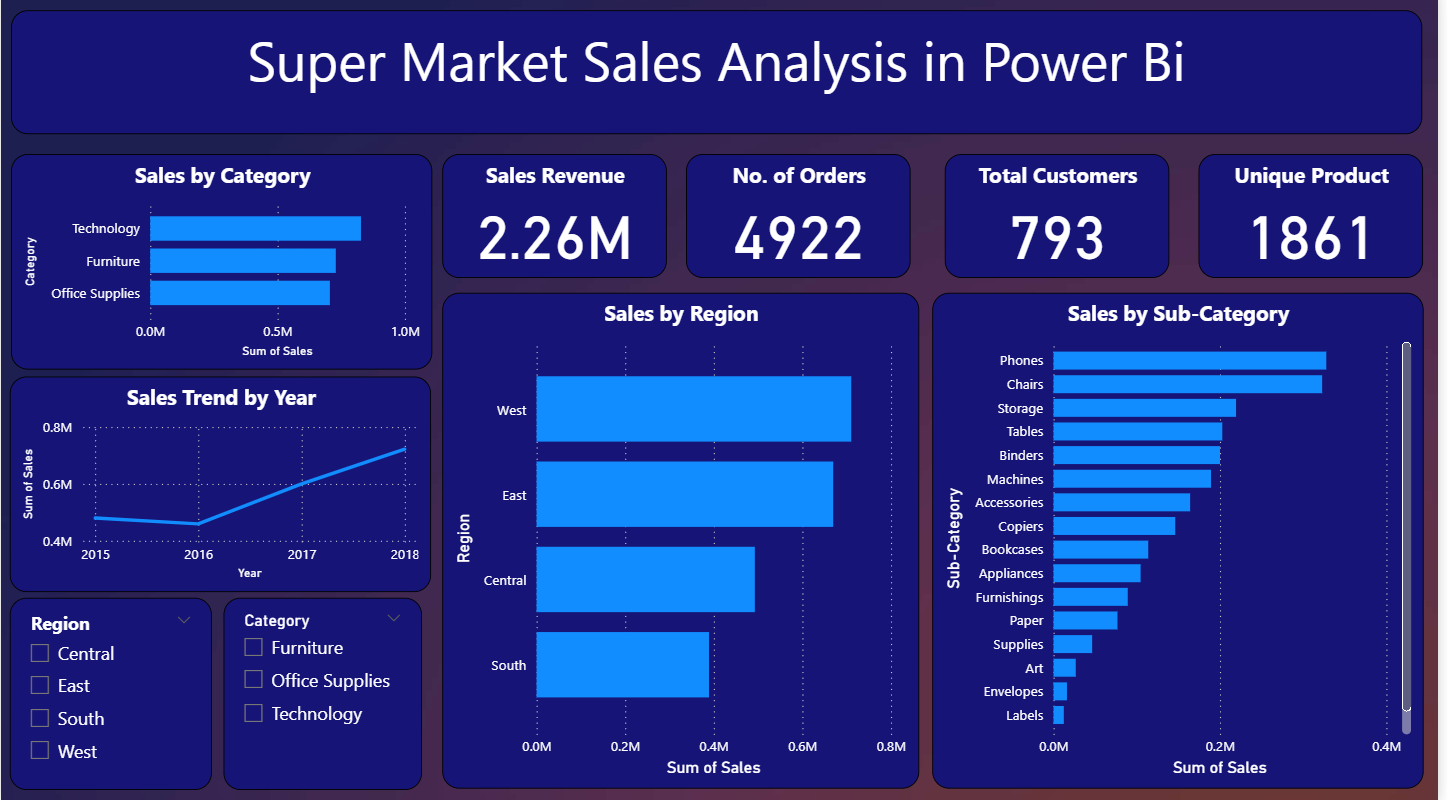

What the dashboard file says about the page in this screenshot:
{"tool":"powerbi","page":{"name":"Page 1","canvas":[1280,720],"ordinal":0},"visuals":[{"type":"card","title":"Sales Revenue","fields":{"Values":["Sum(train.Sales)"]},"box":[393,143,200,110.5],"z":0},{"type":"barChart","title":"Sales by Category","fields":{"Category":["train.Category"],"Y":["Sum(train.Sales)"]},"box":[9.3,143,375.6,191.9],"z":1000},{"type":"lineChart","title":"Sales Trend by Year","fields":{"Category":["train.Order Date.Variation.Date Hierarchy.Year","train.Order Date.Variation.Date Hierarchy.Quarter","train.Order Date.Variation.Date Hierarchy.Month","train.Order Date.Variation.Date Hierarchy.Day"],"Y":["Sum(train.Sales)"]},"box":[8.1,340.7,375.6,191.9],"z":2000},{"type":"slicer","fields":{"Values":["train.Region"]},"box":[8.1,537.2,180.2,170.9],"z":3000},{"type":"clusteredBarChart","title":"Sales by Region","fields":{"Category":["train.Region"],"Y":["Sum(train.Sales)"]},"box":[393,266.3,424.4,441.9],"z":4000},{"type":"textbox","box":[9.3,14,1257,110.5],"z":5000},{"type":"clusteredBarChart","title":"Sales by Sub-Category","fields":{"Category":["train.Sub-Category"],"Y":["Sum(train.Sales)"]},"box":[829.1,266.3,437.2,441.9],"z":6000},{"type":"card","title":"No. of Orders","fields":{"Values":["Count(train.Order ID)"]},"box":[610.5,143,200,110.5],"z":7000},{"type":"card","title":"Total Customers","fields":{"Values":["Count(train.Customer ID)"]},"box":[840.7,143,200,110.5],"z":8000},{"type":"card","title":"Unique Product","fields":{"Values":["Count(train.Product ID)"]},"box":[1066.3,143,200,110.5],"z":9000},{"type":"slicer","fields":{"Values":["train.Category"]},"box":[197.7,537.2,176.7,170.9],"z":9001}]}

Visuals, with their boxes in screenshot pixels (x1, y1, x2, y2), scaled from the page's 1280x720 canvas onto the 1447x800 screenshot:
"Sales Revenue" card: locate(444, 159, 670, 282)
"Sales by Category" barChart: locate(11, 159, 435, 372)
"Sales Trend by Year" lineChart: locate(9, 379, 434, 592)
slicer - train.Region: locate(9, 597, 213, 787)
"Sales by Region" clusteredBarChart: locate(444, 296, 924, 787)
textbox: locate(11, 16, 1432, 138)
"Sales by Sub-Category" clusteredBarChart: locate(937, 296, 1432, 787)
"No. of Orders" card: locate(690, 159, 916, 282)
"Total Customers" card: locate(950, 159, 1176, 282)
"Unique Product" card: locate(1205, 159, 1432, 282)
slicer - train.Category: locate(223, 597, 423, 787)
